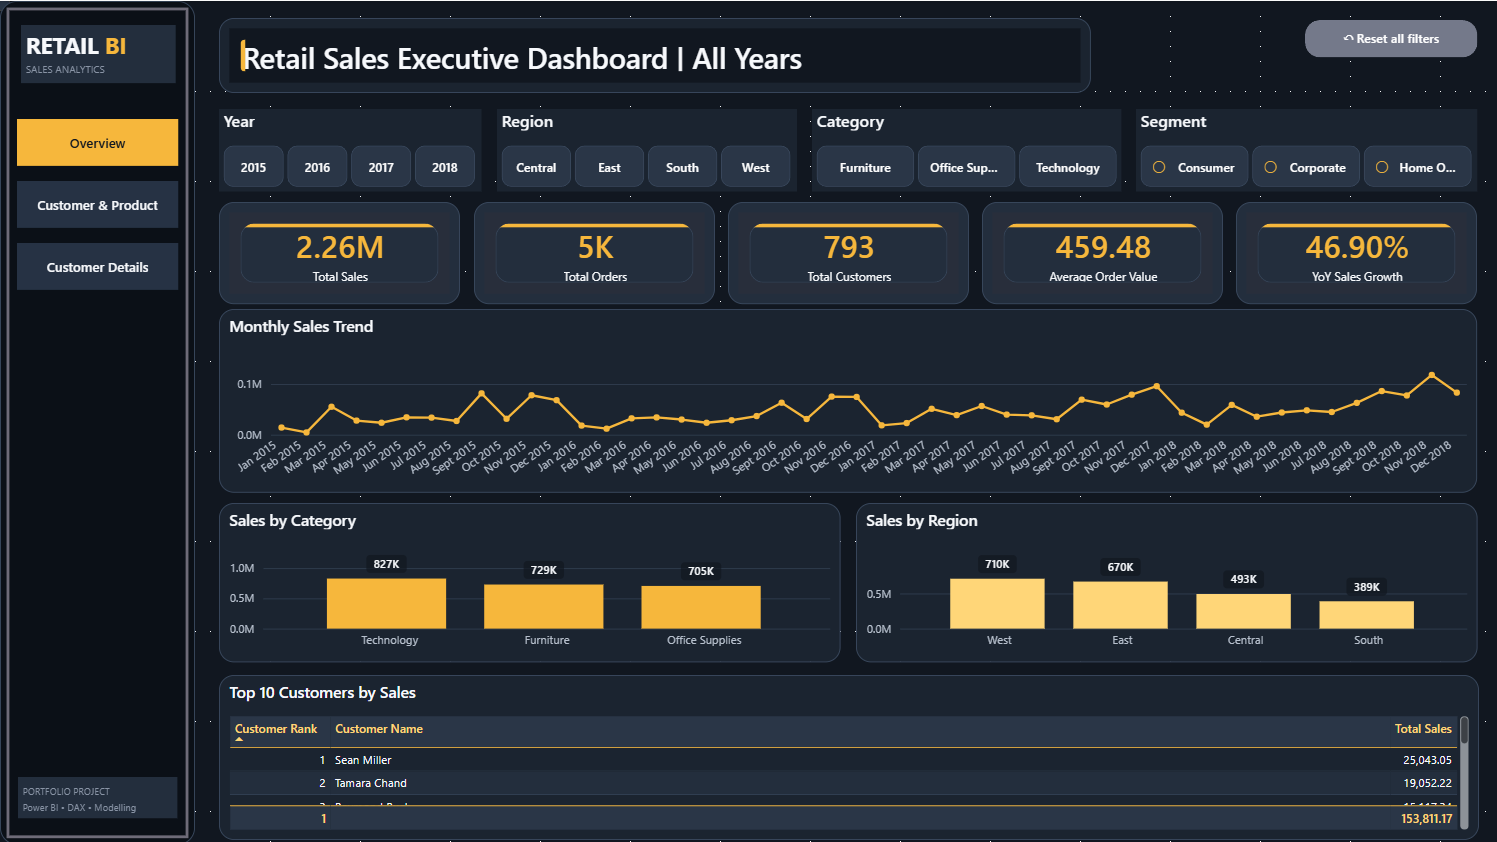

The dashboard page shown, as its layout file describes it:
{"tool":"powerbi","page":{"name":"Executive Dashboard","canvas":[1600,900],"ordinal":0},"visuals":[{"type":"cardVisual","fields":{"Data":["Measures (2).Average Order Value"]},"box":[1047.6,214,257.2,109],"z":0},{"type":"textbox","box":[0,0,0.1,0.1],"z":1000},{"type":"textbox","box":[0,0,0.1,0.1],"z":2000},{"type":"textbox","box":[0,0,0.1,0.1],"z":3000},{"type":"textbox","box":[0,0,0.1,0.1],"z":4000},{"type":"actionButton","box":[0,0,208,900],"z":5000},{"type":"textbox","box":[22,26,165,62],"z":6000},{"type":"textbox","box":[19,828,170,44],"z":7000},{"type":"actionButton","box":[18,126,172,50],"z":13000},{"type":"actionButton","box":[18,192,172,50],"z":14000},{"type":"actionButton","box":[18,258,172,50],"z":15000},{"type":"actionButton","box":[1392,20,184,40],"z":16000},{"type":"cardVisual","fields":{"Data":["Measures (2).Total Customers"]},"box":[776.4,214,257.2,109],"z":18000},{"type":"cardVisual","fields":{"Data":["Measures (2).Total Orders"]},"box":[505.2,214,257.2,109],"z":19000},{"type":"cardVisual","fields":{"Data":["Measures (2).Total Sales"]},"box":[234,214,257.2,109],"z":20000},{"type":"lineChart","title":"Monthly Sales Trend","fields":{"Y":["Measures (2).Total Sales"],"Category":["Date.Month Year"]},"box":[234,329,1342,196],"z":21000},{"type":"lineClusteredColumnComboChart","title":"Sales by Category","fields":{"Y":["Measures (2).Total Sales"],"Category":["Sales Data.Category"]},"box":[234,535,663,170],"z":22000},{"type":"lineClusteredColumnComboChart","title":"Sales by Region","fields":{"Category":["Sales Data.Region"],"Y":["Measures (2).Total Sales"]},"box":[913,535,663,170],"z":23000},{"type":"tableEx","title":"Top 10 Customers by Sales","fields":{"Values":["Measures (2).Customer Rank","Sales Data.Customer Name","Measures (2).Total Sales"]},"box":[234,719,1344,176],"z":24000},{"type":"advancedSlicerVisual","fields":{"Values":["Date.Year"]},"box":[234,115,280,88],"z":25000},{"type":"advancedSlicerVisual","fields":{"Values":["Sales Data.Region"]},"box":[530,115,320,88],"z":26000},{"type":"advancedSlicerVisual","fields":{"Values":["Sales Data.Category"]},"box":[866,115,330,88],"z":27000},{"type":"advancedSlicerVisual","fields":{"Values":["Sales Data.Segment"]},"box":[1212,115,364,88],"z":28000},{"type":"cardVisual","fields":{"Data":["Measures (2).YoY Sales Growth"]},"box":[1318.8,214,257.2,109],"z":29000},{"type":"cardVisual","fields":{"Data":["Measures (2).Dynamic Dashboard Title"]},"box":[234,18,930,80],"z":30000}]}

Visuals, with their boxes on the page's 1600x900 design canvas (x1, y1, x2, y2). These are canvas units, not pixel positions in the 1497x842 screenshot, which may show the page scaled, cropped or inside an application window:
cardVisual - Measures (2).Average Order Value: bbox(1048, 214, 1305, 323)
textbox: bbox(0, 0, 0, 0)
textbox: bbox(0, 0, 0, 0)
textbox: bbox(0, 0, 0, 0)
textbox: bbox(0, 0, 0, 0)
actionButton: bbox(0, 0, 208, 900)
textbox: bbox(22, 26, 187, 88)
textbox: bbox(19, 828, 189, 872)
actionButton: bbox(18, 126, 190, 176)
actionButton: bbox(18, 192, 190, 242)
actionButton: bbox(18, 258, 190, 308)
actionButton: bbox(1392, 20, 1576, 60)
cardVisual - Measures (2).Total Customers: bbox(776, 214, 1034, 323)
cardVisual - Measures (2).Total Orders: bbox(505, 214, 762, 323)
cardVisual - Measures (2).Total Sales: bbox(234, 214, 491, 323)
"Monthly Sales Trend" lineChart: bbox(234, 329, 1576, 525)
"Sales by Category" lineClusteredColumnComboChart: bbox(234, 535, 897, 705)
"Sales by Region" lineClusteredColumnComboChart: bbox(913, 535, 1576, 705)
"Top 10 Customers by Sales" tableEx: bbox(234, 719, 1578, 895)
advancedSlicerVisual - Date.Year: bbox(234, 115, 514, 203)
advancedSlicerVisual - Sales Data.Region: bbox(530, 115, 850, 203)
advancedSlicerVisual - Sales Data.Category: bbox(866, 115, 1196, 203)
advancedSlicerVisual - Sales Data.Segment: bbox(1212, 115, 1576, 203)
cardVisual - Measures (2).YoY Sales Growth: bbox(1319, 214, 1576, 323)
cardVisual - Measures (2).Dynamic Dashboard Title: bbox(234, 18, 1164, 98)
